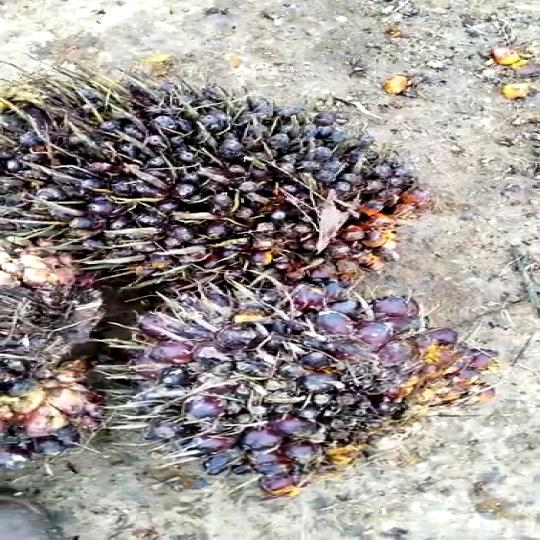kurang masak: (0, 72, 402, 288), (87, 288, 514, 488)
